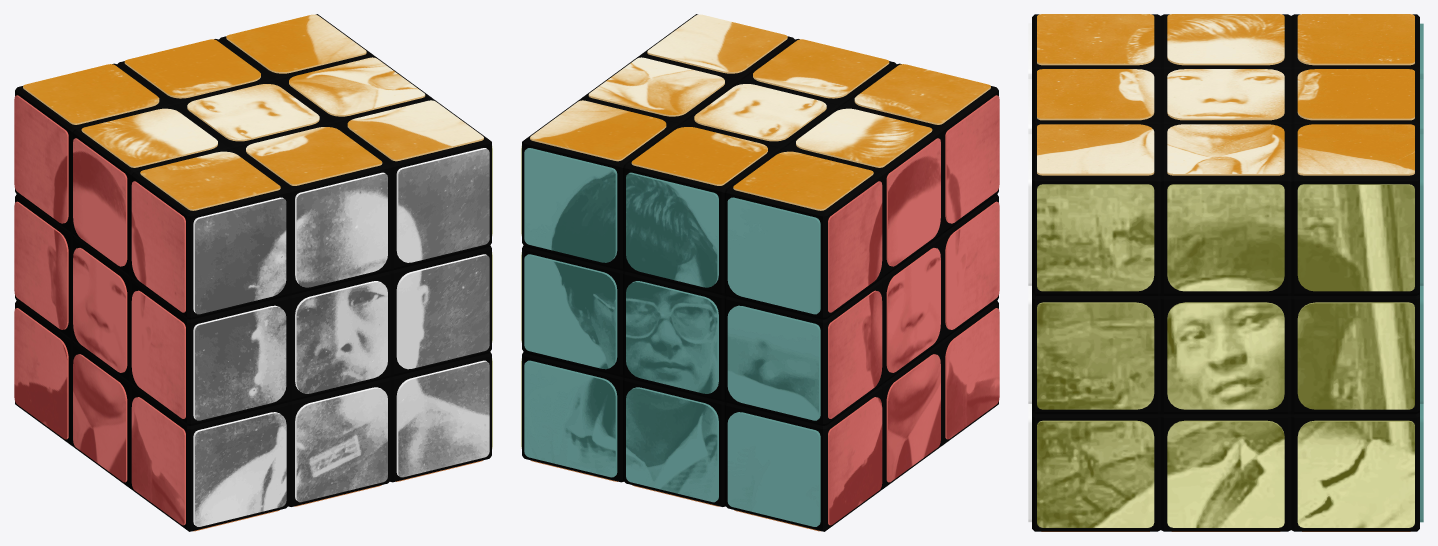
The picture shows the model from 3 angles, left to right: view 1: azimuth 30°, elevation 25°; view 2: azimuth 150°, elevation 25°; view 3: azimuth 270°, elevation 25°; orthographic projection. The views are drawn at different scales.
Visible parts, largest first — view 1: Cube.016, Cube.010, Cube.012, Cube.007; view 2: Cube.009, Cube.010, Cube.012, Cube.007; view 3: Cube.008, Cube.012, Cube.007, Cube.016, Cube.009.
Part boxes in pixels (x1,y1,x2,y2): Cube.016: (193, 148, 489, 526); Cube.010: (14, 95, 185, 525); Cube.012: (23, 14, 483, 210); Cube.007: (15, 14, 491, 531); Cube.009: (524, 148, 820, 526); Cube.010: (828, 95, 999, 525); Cube.012: (530, 14, 990, 210); Cube.007: (522, 14, 998, 531); Cube.008: (1037, 184, 1414, 527); Cube.012: (1037, 14, 1414, 175); Cube.007: (1032, 14, 1419, 531); Cube.016: (1028, 23, 1031, 522); Cube.009: (1420, 23, 1423, 522).
Bounding box in the file's own units: 2.02 × 2.02 × 2.02.
7 materials, 6 textured.
